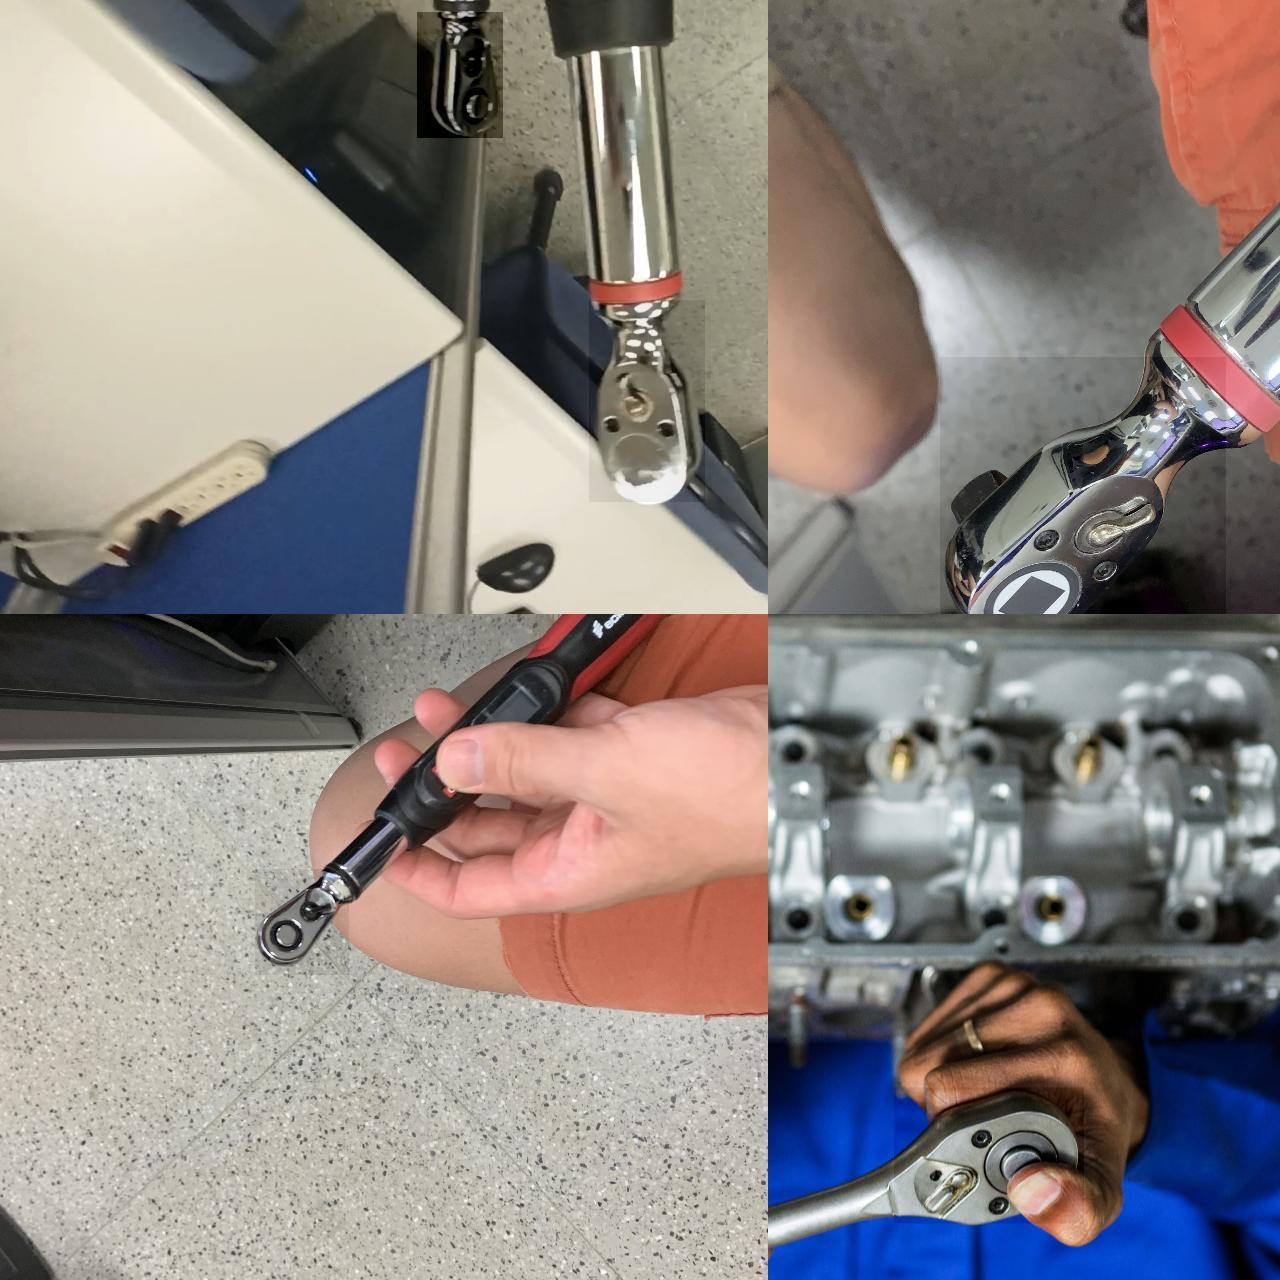Tool: (939, 356, 1225, 614), (893, 1087, 1083, 1223), (588, 299, 704, 501), (416, 11, 502, 137), (254, 869, 348, 974)
